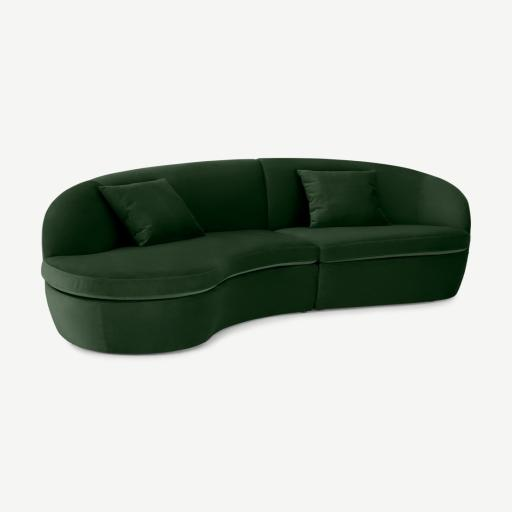back_cushion: (42, 158, 470, 258)
base: (46, 252, 467, 353)
seat_cushion: (42, 225, 469, 299)
two-seater: (0, 0, 511, 512)
